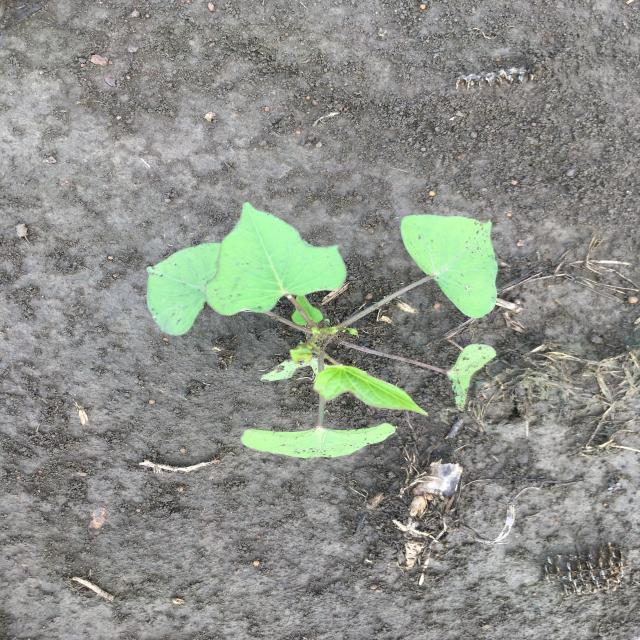MorningGlory: (142, 200, 503, 460)
